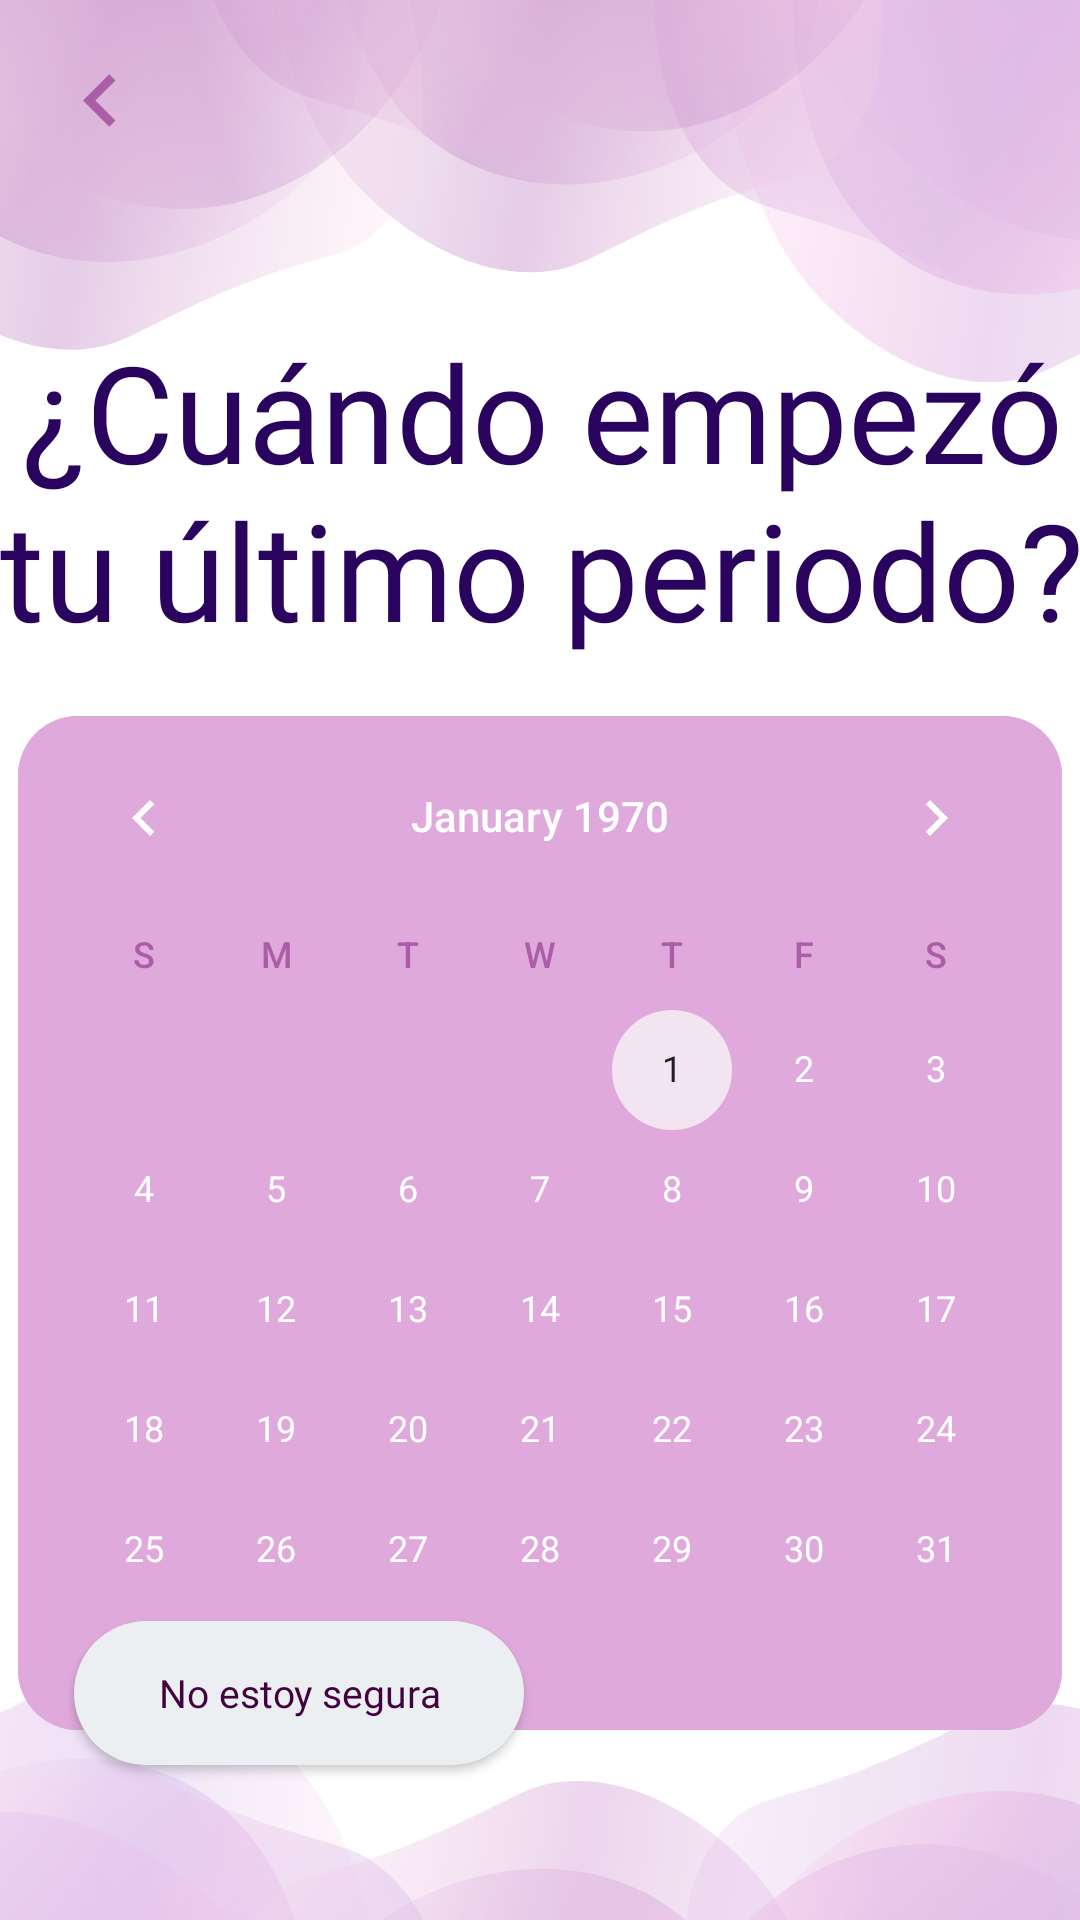

Icon click points for this 1080 x 1920 phone screenshot, format [x,y]:
chevron left: [99,100]
